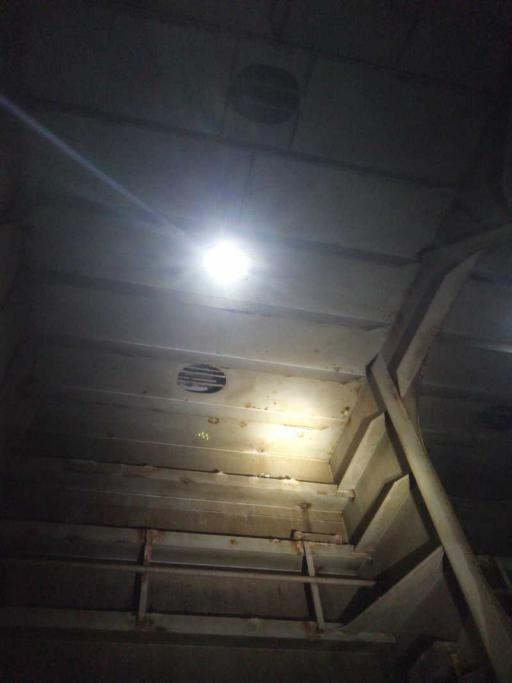corrosion: (270, 534, 347, 564), (77, 456, 159, 484), (128, 524, 177, 565), (216, 530, 250, 557)
